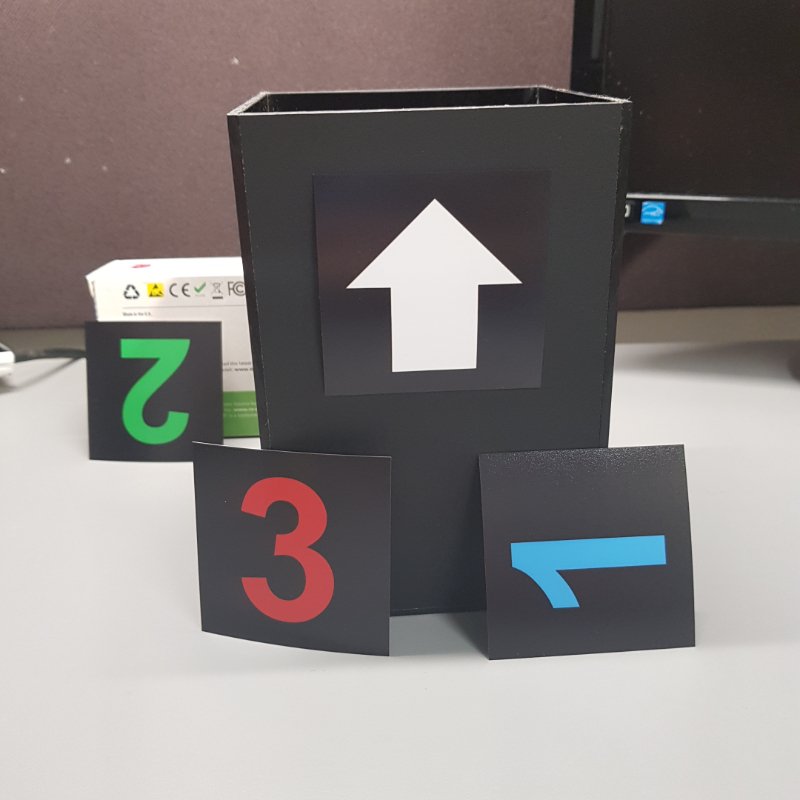One-6: (495, 461, 683, 642)
Three-8: (205, 459, 382, 630)
Two-7: (96, 328, 213, 451)
UA-1: (336, 185, 537, 383)
